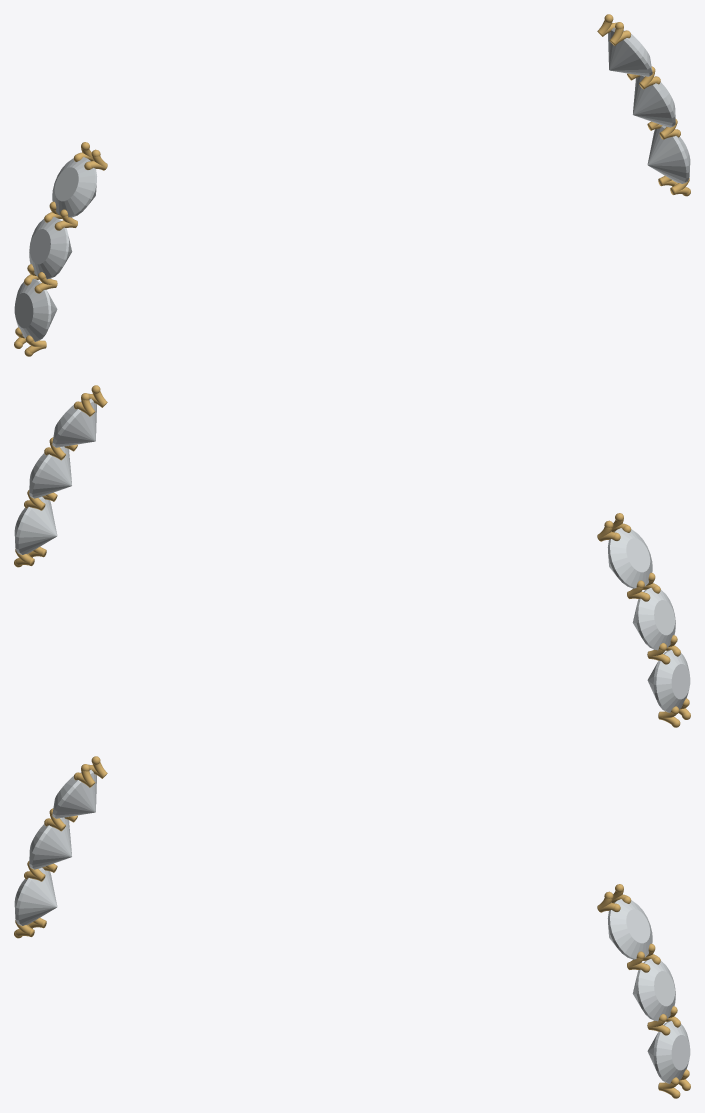
File: accents-shared-prong-wide.glb
3 views of the same model, one above another, from view 1: azimuth 30°, elevation 25°; view 2: azimuth 150°, elevation 25°; view 3: azimuth 330°, elevation 25° (orthographic).
Visible parts, largest first — view 1: Gem, Gem.001, Gem.002, Gem.005, Gem.004, Gem.003; view 2: Gem, Gem.001, Gem.002, Gem.005, Gem.004, Gem.003; view 3: Gem.003, Gem.004, Gem.005, Gem.002, Gem.001, Gem.
Part boxes in pixels (x1,y1,x2,y2): Gem: (52,157,97,217); Gem.001: (29,217,72,279); Gem.002: (14,279,57,341); Gem.005: (647,125,690,183); Gem.004: (633,75,675,127); Gem.003: (608,27,652,76); Gem: (607,528,652,588); Gem.001: (632,588,675,650); Gem.002: (647,650,690,712); Gem.005: (14,496,57,554); Gem.004: (29,446,71,498); Gem.003: (52,398,96,447); Gem.003: (607,899,652,959); Gem.004: (632,959,675,1021); Gem.005: (647,1021,690,1083); Gem.002: (14,867,57,925); Gem.001: (29,817,71,869); Gem: (52,769,96,818).
Bounding box in the file's own units: 19.87 × 5.42 × 1.65.
